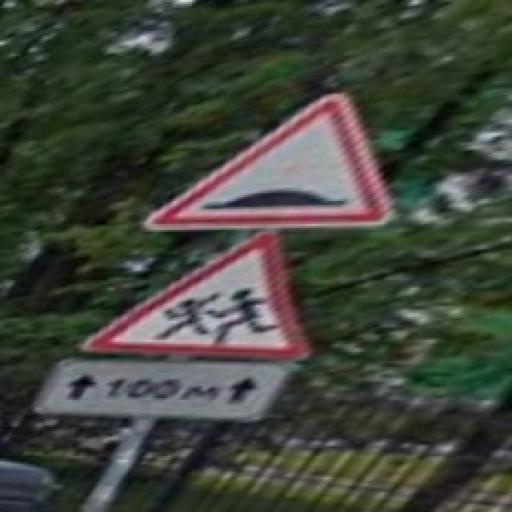traffic_sign: (145, 92, 392, 233), (83, 231, 312, 362)
